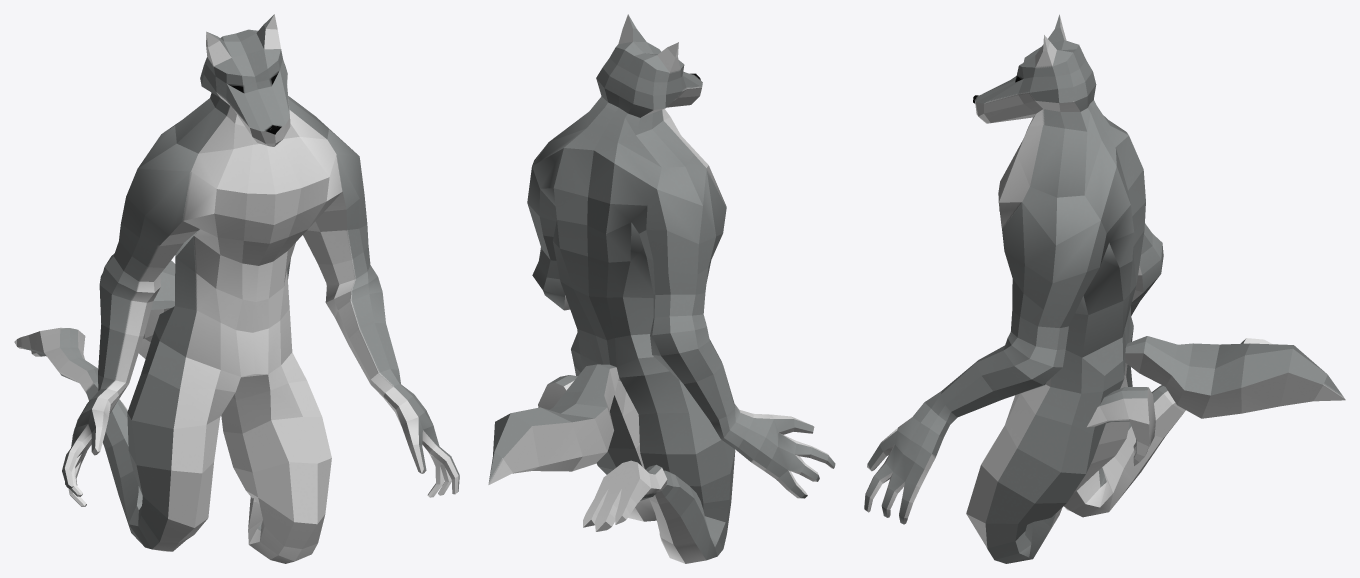
File: WolfDead(38).obj
The picture shows the model from 3 angles, left to right: view 1: azimuth 30°, elevation 25°; view 2: azimuth 150°, elevation 25°; view 3: azimuth 270°, elevation 25°; orthographic projection. The views are drawn at different scales.
Visible parts, largest first — view 1: Box001; view 2: Box001; view 3: Box001.
Boxes of the visible parts, x1,y1,x2,y2 form: Box001: (14,14,459,563); Box001: (488,14,835,563); Box001: (864,14,1345,563).
Bounding box in the file's own units: 74.21 × 121 × 100.
